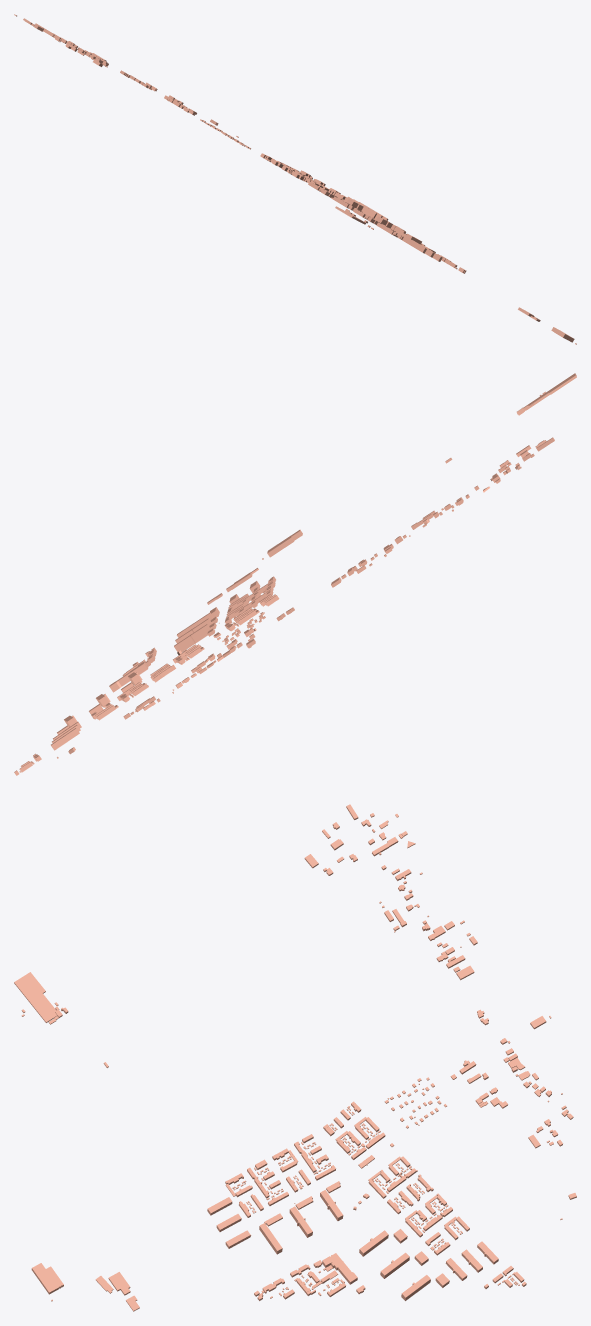
The picture shows the model from 3 angles, top to bottom: view 1: azimuth 30°, elevation 25°; view 2: azimuth 150°, elevation 25°; view 3: azimuth 270°, elevation 25°; orthographic projection. The views are drawn at different scales.
Size of the model in its own units: 1008 by 761 by 1235.
